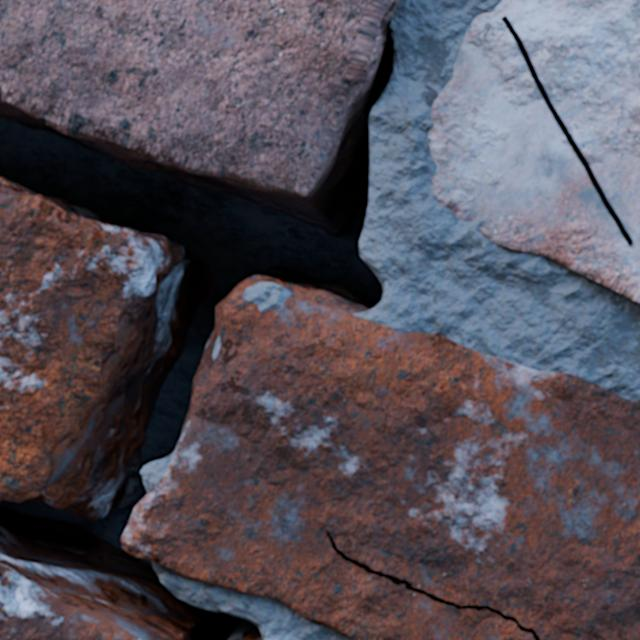broken_brick: (0, 585, 143, 639)
crack: (0, 0, 639, 639), (428, 0, 639, 305)
